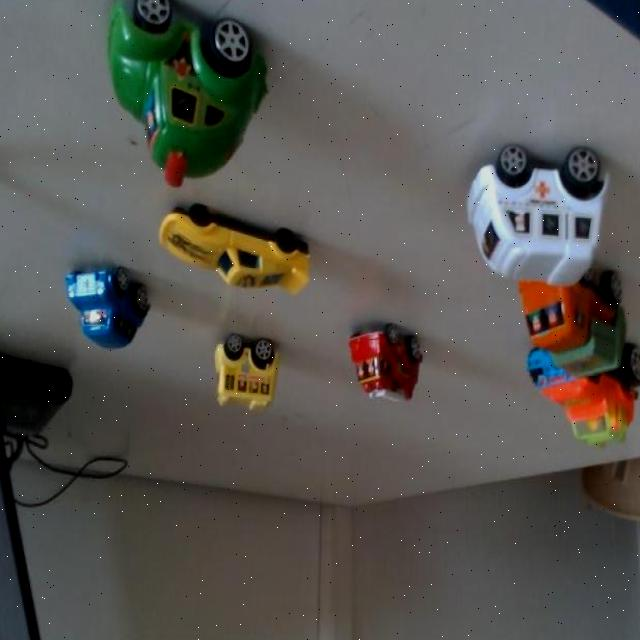car: (438, 117, 596, 311), (100, 10, 235, 172), (166, 191, 294, 307), (518, 339, 608, 452), (525, 260, 596, 388), (347, 304, 426, 418), (200, 317, 286, 415), (62, 257, 137, 354)
